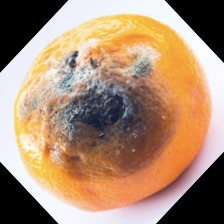orange: (46, 3, 219, 180)
